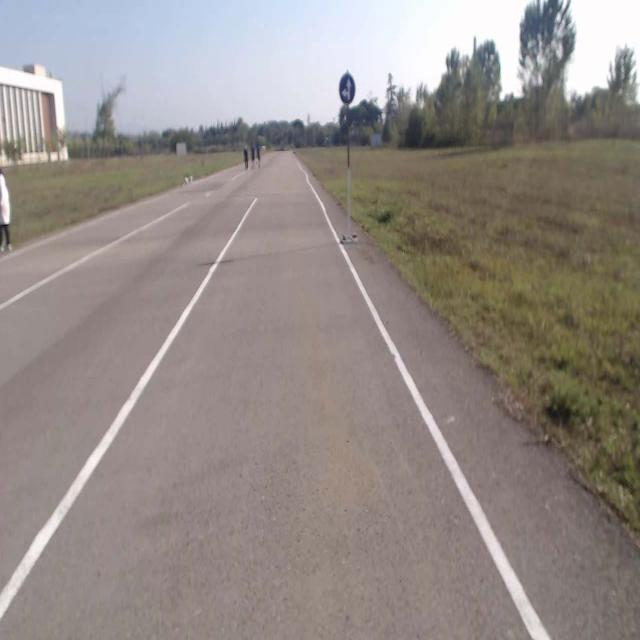ilerisol: (339, 74, 355, 104)
